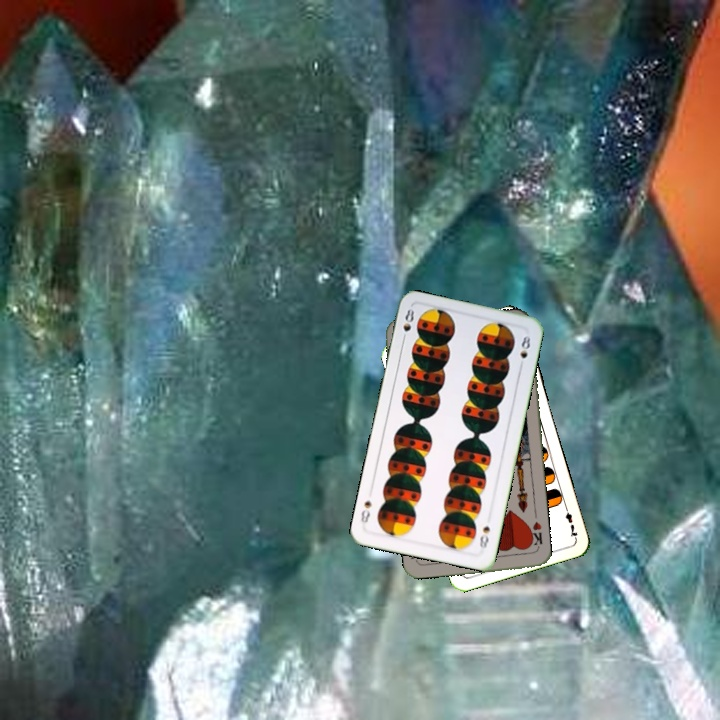E7: (561, 501, 580, 541)
HK: (524, 518, 545, 552)
S8: (398, 305, 417, 345), (475, 522, 493, 554)
